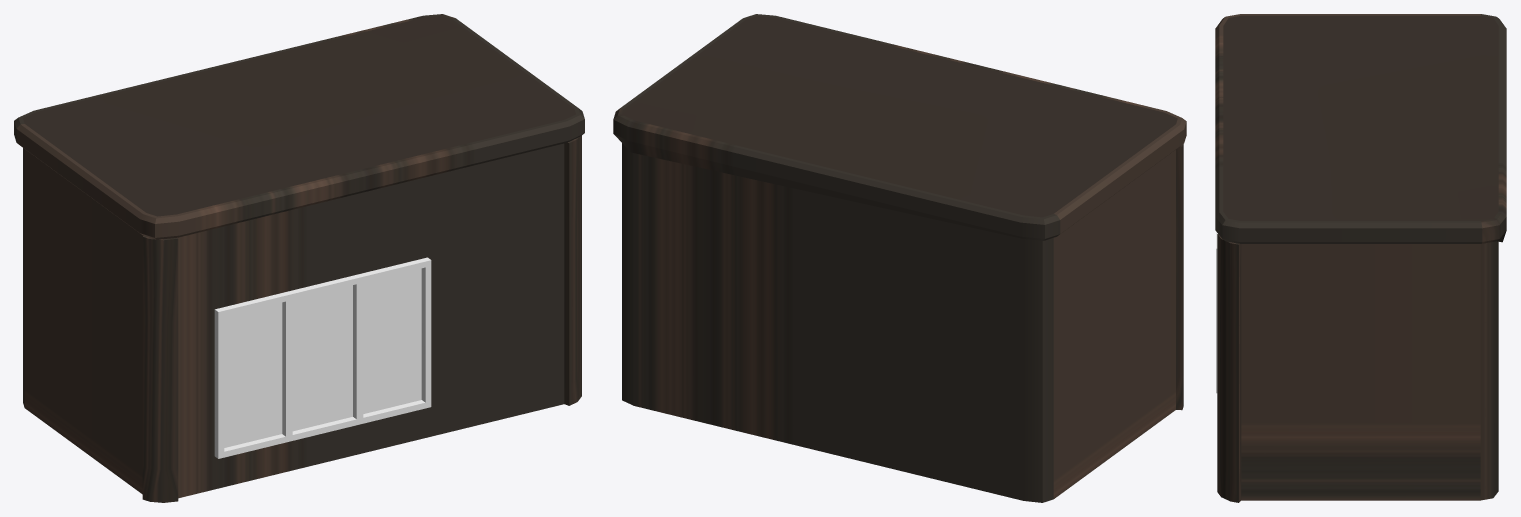
Rendered from _abitation1.fbx.
The picture shows the model from 3 angles, left to right: view 1: azimuth 30°, elevation 25°; view 2: azimuth 150°, elevation 25°; view 3: azimuth 270°, elevation 25°; orthographic projection. The views are drawn at different scales.
Visible parts, largest first — view 1: Habitation1; view 2: Habitation1; view 3: Habitation1.
Part boxes in pixels (x1,y1,x2,y2): Habitation1: (14,14,584,502); Habitation1: (613,14,1186,502); Habitation1: (1215,14,1506,502).
Size of the model in its own units: 39.78 by 24.42 by 23.09.
Materials: 3 (1 with a texture image).
